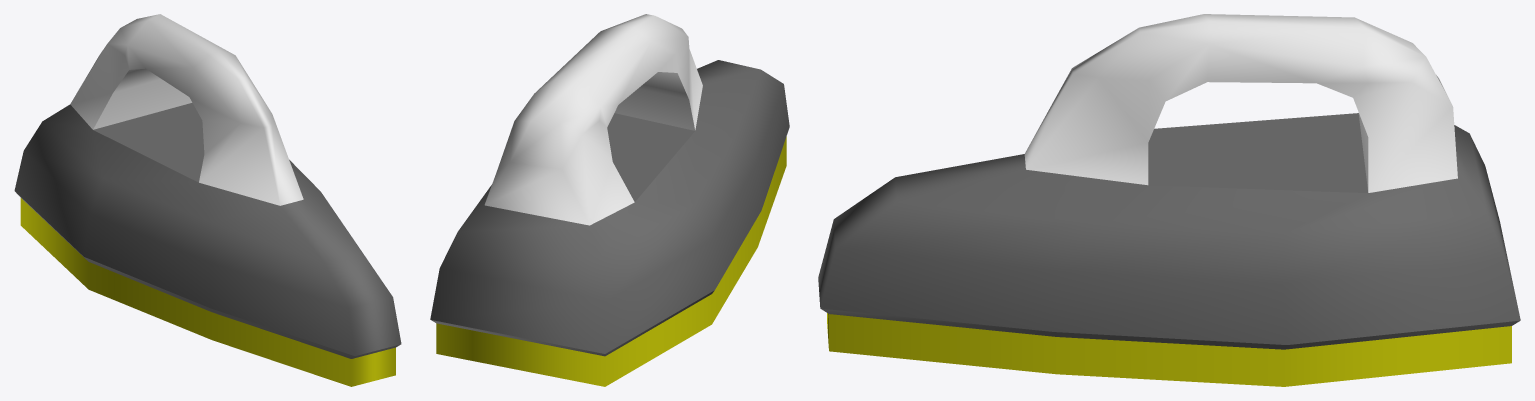
The model's file is Laundry_Iron.fbx.
3 views of the same model, side by side, from view 1: azimuth 30°, elevation 25°; view 2: azimuth 150°, elevation 25°; view 3: azimuth 270°, elevation 25° (orthographic). The views are drawn at different scales.
Parts seen in each view (by area): view 1: Laundry_Iron; view 2: Laundry_Iron; view 3: Laundry_Iron.
Boxes of the visible parts, x1,y1,x2,y2 form: Laundry_Iron: [14, 14, 401, 386]; Laundry_Iron: [430, 14, 789, 386]; Laundry_Iron: [818, 14, 1520, 386].
Size of the model in its own units: 23.56 by 25.18 by 52.29.
